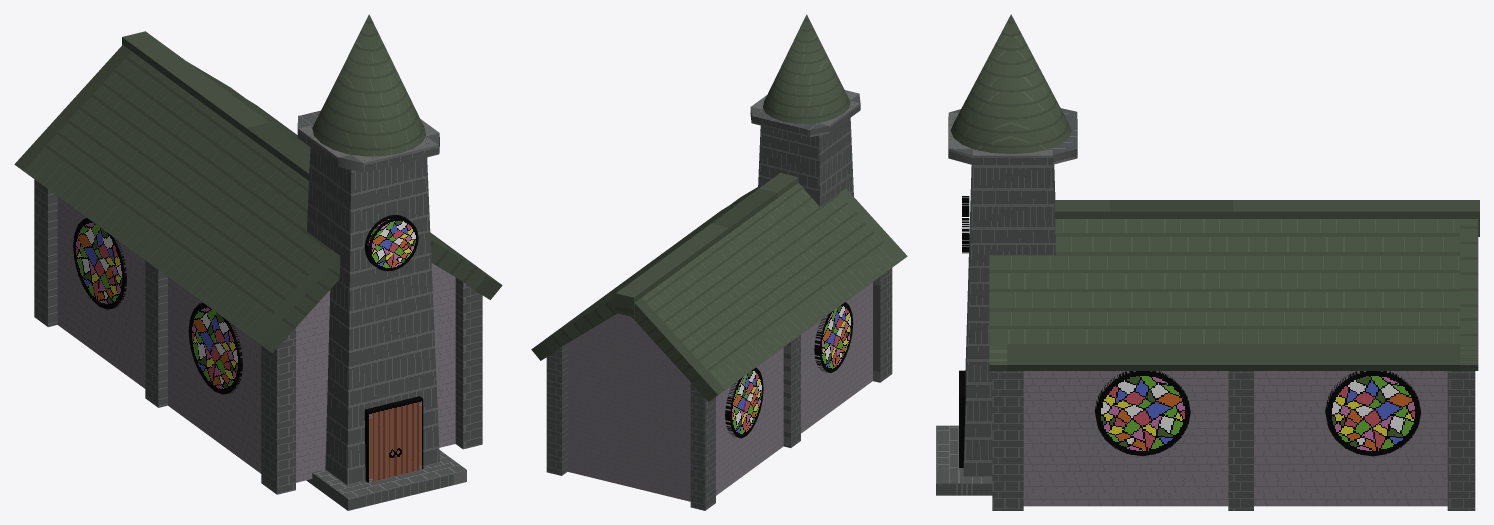
Rendered from villiageChurch.fbx.
The picture shows the model from 3 angles, left to right: view 1: azimuth 30°, elevation 25°; view 2: azimuth 150°, elevation 25°; view 3: azimuth 270°, elevation 25°; orthographic projection. The views are drawn at different scales.
Visible parts, largest first — view 1: VilliageChurch, VilliageChurchFront, Villiage_church_roofcone, VilliageChurchBeam, ChurchDoor, ChurchStainedGlass1, ChurchStainedGlass2, ChurchStainedGlass; view 2: VilliageChurch, VilliageChurchFront, Villiage_church_roofcone, VilliageChurchBeam, ChurchStainedGlass1, ChurchStainedGlass2; view 3: VilliageChurch, VilliageChurchFront, Villiage_church_roofcone, VilliageChurchBeam, ChurchStainedGlass3, ChurchStainedGlass4, ChurchDoor.
Part boxes in pixels (box(x1,y1,x2,y2)): VilliageChurch: box(14, 45, 502, 494); VilliageChurchFront: box(297, 110, 466, 510); Villiage_church_roofcone: box(312, 14, 425, 156); VilliageChurchBeam: box(122, 31, 310, 180); ChurchDoor: box(364, 396, 423, 482); ChurchStainedGlass1: box(188, 302, 242, 394); ChurchStainedGlass2: box(73, 218, 126, 309); ChurchStainedGlass: box(364, 214, 418, 271); VilliageChurch: box(531, 183, 907, 510); VilliageChurchFront: box(750, 90, 860, 206); Villiage_church_roofcone: box(763, 14, 850, 123); VilliageChurchBeam: box(615, 173, 798, 317); ChurchStainedGlass1: box(814, 302, 853, 372); ChurchStainedGlass2: box(725, 367, 763, 438); VilliageChurch: box(989, 219, 1478, 510); VilliageChurchFront: box(936, 108, 1077, 495); Villiage_church_roofcone: box(950, 14, 1071, 153); VilliageChurchBeam: box(1055, 200, 1479, 236); ChurchStainedGlass3: box(1325, 371, 1421, 456); ChurchStainedGlass4: box(1094, 371, 1190, 455); ChurchDoor: box(959, 370, 965, 467).
Size of the model in its own units: 7746 by 13884 by 15128.
7 materials, 5 textured.
